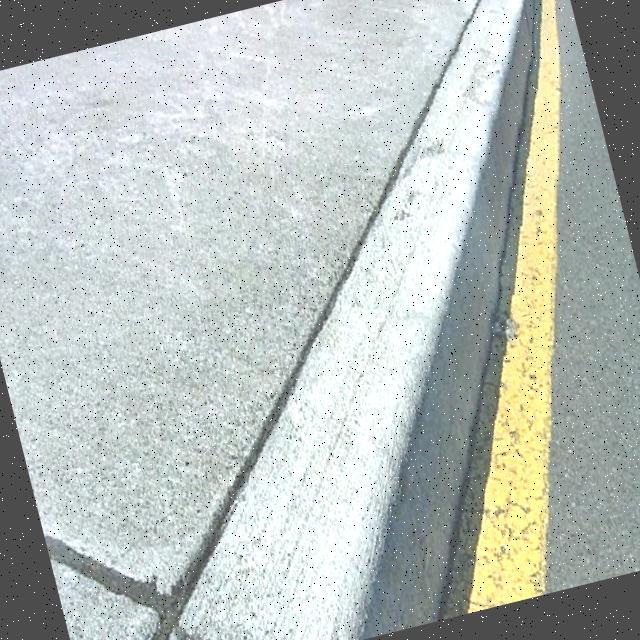curb: (35, 175, 589, 640), (373, 1, 601, 183)
